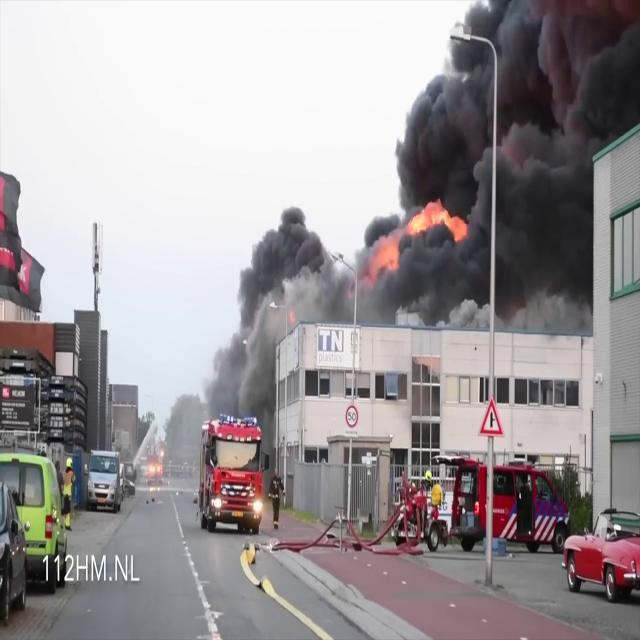Smoke: (378, 0, 640, 329), (198, 188, 354, 420)
